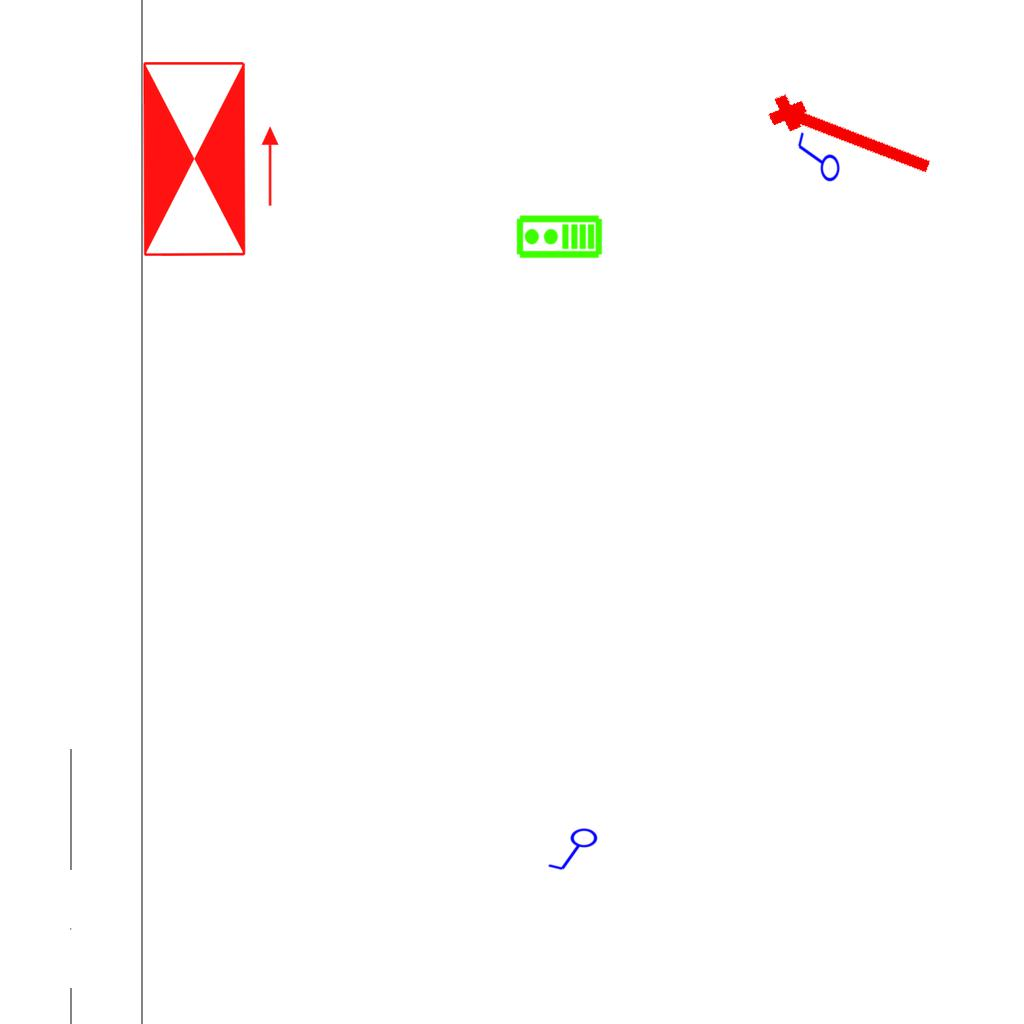ASR_Ansaugoeffnung: (761, 81, 943, 189)
Ausschalter: (793, 131, 841, 187), (547, 827, 603, 875)
Fluchtwegpiktogramm: (137, 55, 284, 263)
Gegensprechanlage_mit_Video: (515, 214, 603, 261)
